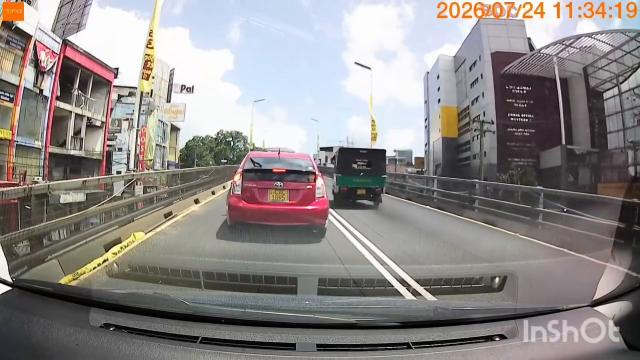illegal overtaking: (331, 143, 393, 214)
